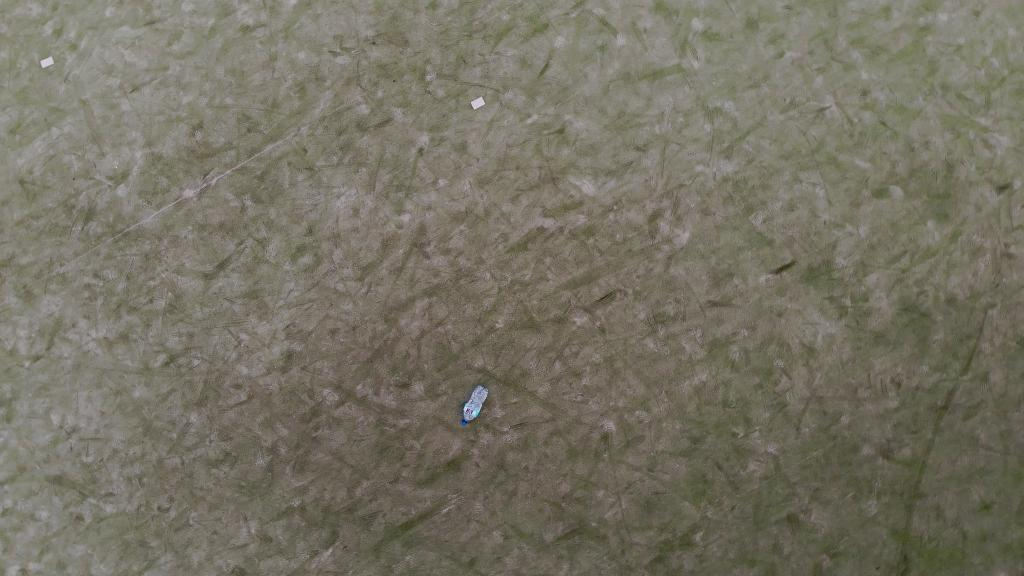garbage: (458, 385, 487, 429)
